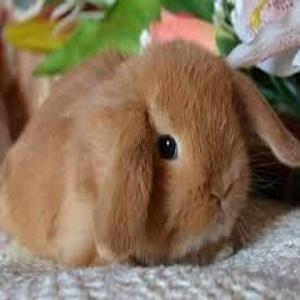rabbit: (0, 40, 299, 265)
